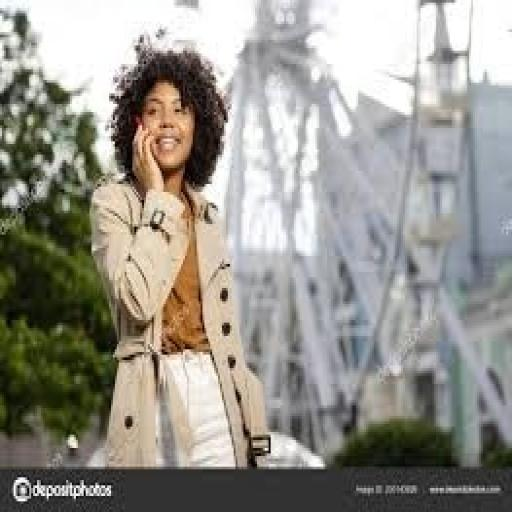calling: (86, 35, 272, 469)
